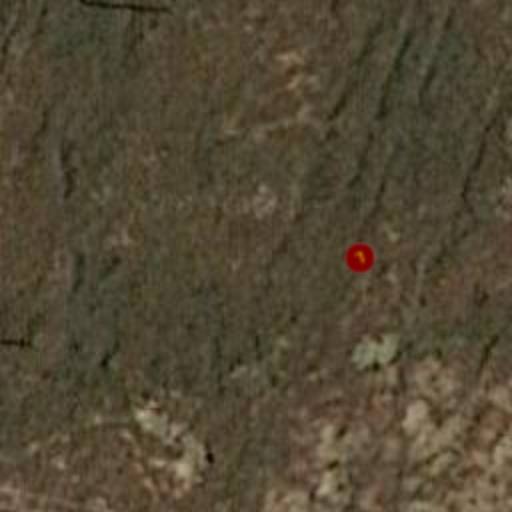circle: (338, 236, 382, 280)
